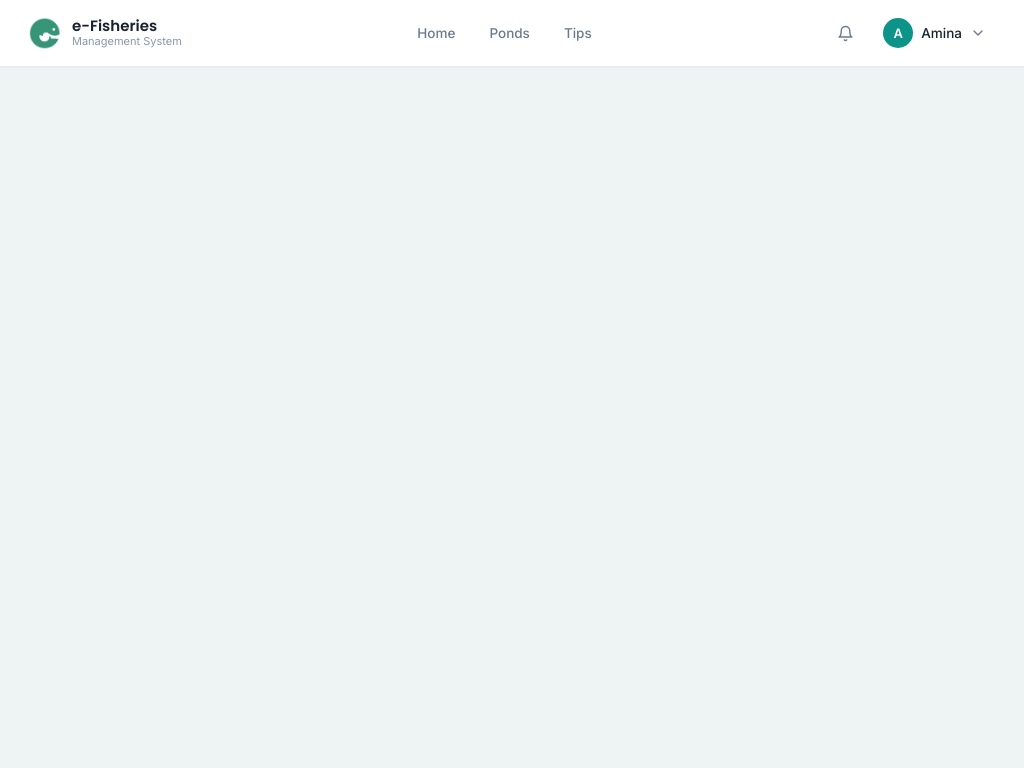
DashboardTopbar › loads AI pond tips and shows an API error
The width and height of the screenshot is (1024, 768).
Click the button "Tips" at [578, 33], box [550,17,606,49]
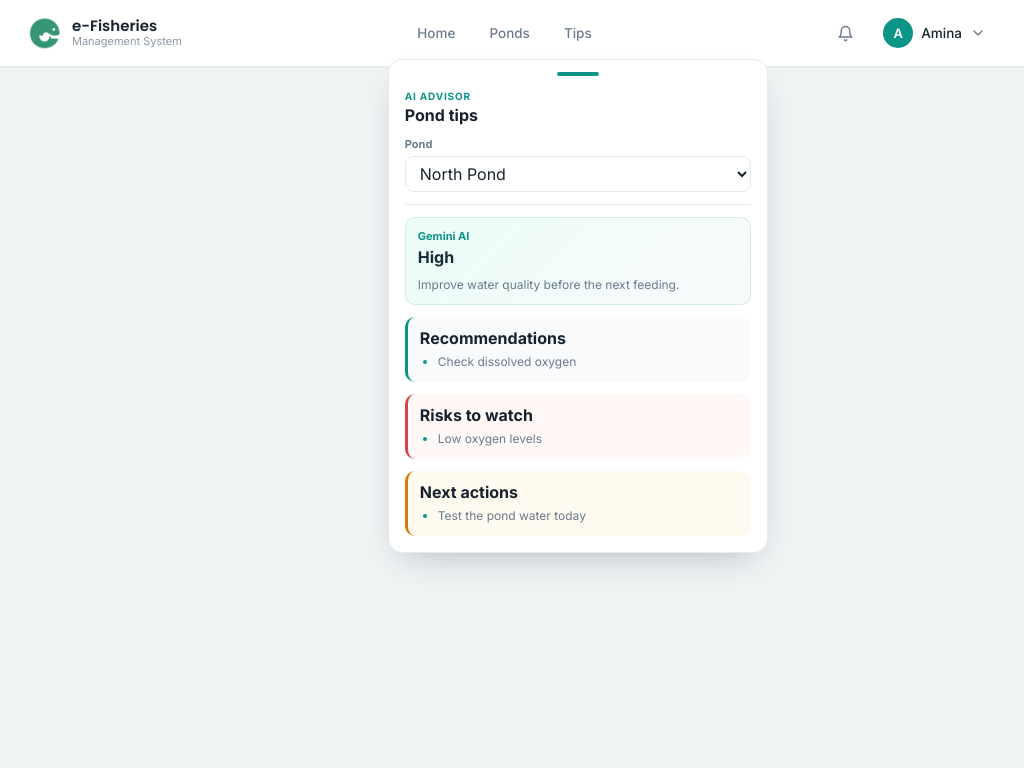
Check: the text "Improve water quality before the next feeding." is shown, box [418,277,679,292]
Select "South Pond" in the dropdown labelled "Pond" at [578, 174], box [405,156,751,192]
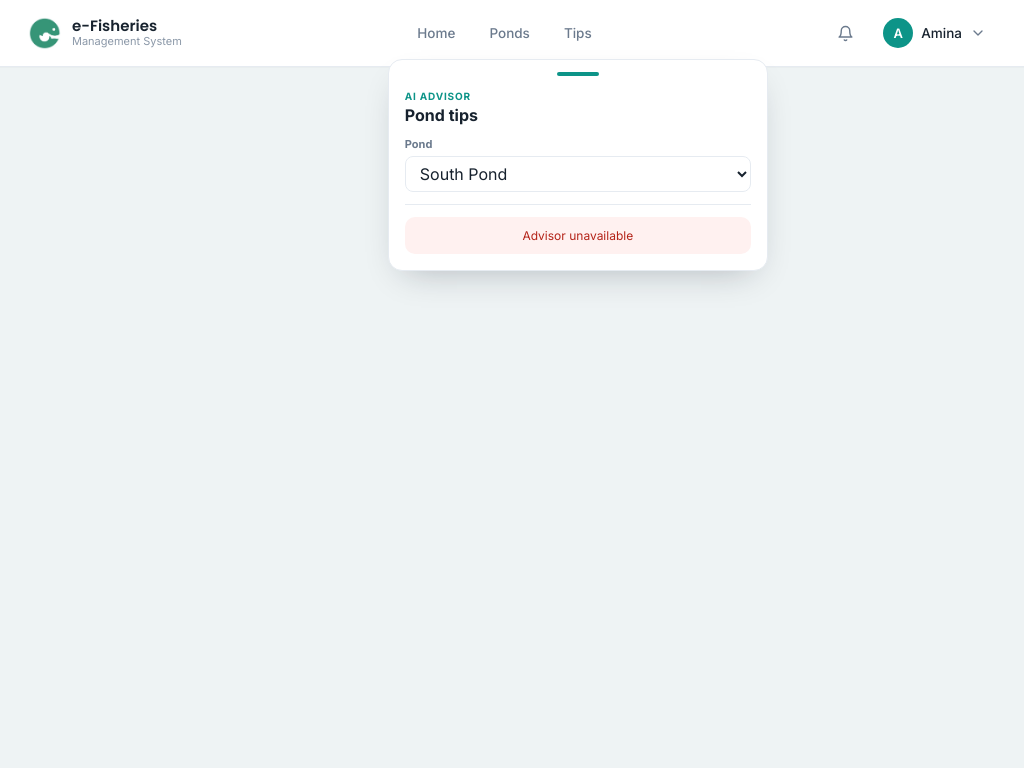
Check: the text "Advisor unavailable" is shown, box [405,217,751,254]
